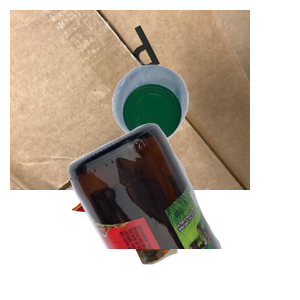cardboard: (10, 10, 250, 190)
glass: (66, 120, 300, 300)
plastic: (110, 62, 300, 198)
trash: (69, 153, 239, 300)
